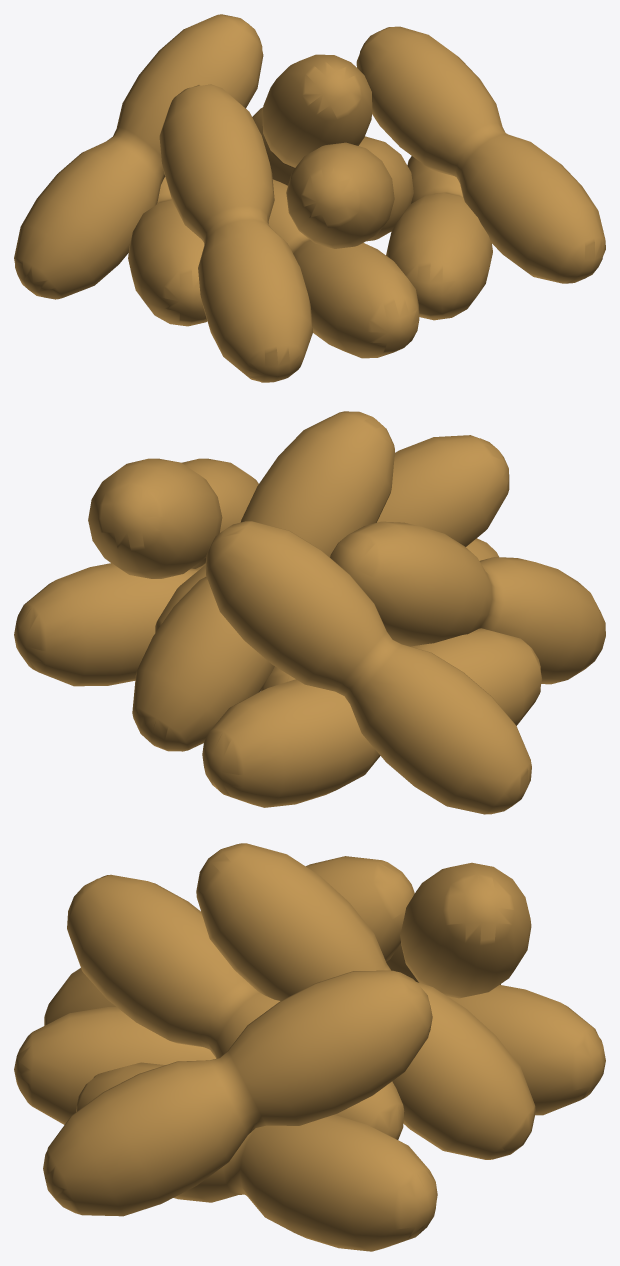
The model's file is FIXED_Peanut.fbx.
3 renders of one model, top to bottom at view 1: azimuth 30°, elevation 25°; view 2: azimuth 150°, elevation 25°; view 3: azimuth 270°, elevation 25°, orthographic. The views are drawn at different scales.
Parts seen in each view (by area): view 1: Peanut_GEO7, Peanut_GEO5, Peanut_GEO6, Peanut_GEO, Peanut_GEO1, Peanut_GEO3, Peanut_GEO2, Peanut_GEO4; view 2: Peanut_GEO6, Peanut_GEO2, Peanut_GEO5, Peanut_GEO4, Peanut_GEO7, Peanut_GEO3, Peanut_GEO1, Peanut_GEO; view 3: Peanut_GEO7, Peanut_GEO2, Peanut_GEO1, Peanut_GEO3, Peanut_GEO6, Peanut_GEO, Peanut_GEO4, Peanut_GEO5.
Boxes of the visible parts, box(x1,y1,x2,y2) form: Peanut_GEO7: box(356, 26, 605, 283); Peanut_GEO5: box(159, 84, 312, 382); Peanut_GEO6: box(14, 14, 263, 299); Peanut_GEO: box(268, 179, 419, 358); Peanut_GEO1: box(286, 136, 413, 248); Peanut_GEO3: box(386, 156, 492, 320); Peanut_GEO2: box(252, 54, 372, 185); Peanut_GEO4: box(128, 177, 207, 326); Peanut_GEO6: box(205, 521, 531, 814); Peanut_GEO2: box(132, 411, 394, 751); Peanut_GEO5: box(330, 521, 605, 684); Peanut_GEO4: box(202, 628, 542, 807); Peanut_GEO7: box(88, 458, 258, 578); Peanut_GEO3: box(14, 563, 205, 686); Peanut_GEO1: box(155, 435, 509, 632); Peanut_GEO: box(261, 538, 498, 690); Peanut_GEO7: box(43, 970, 432, 1216); Peanut_GEO2: box(196, 843, 535, 1159); Peanut_GEO1: box(67, 874, 404, 1139); Peanut_GEO3: box(76, 1062, 437, 1251); Peanut_GEO6: box(386, 862, 531, 998); Peanut_GEO: box(14, 1007, 215, 1124); Peanut_GEO4: box(447, 985, 605, 1115); Peanut_GEO5: box(44, 856, 414, 1025).
Bounding box in the file's own units: 16.15 × 8.17 × 14.94.
